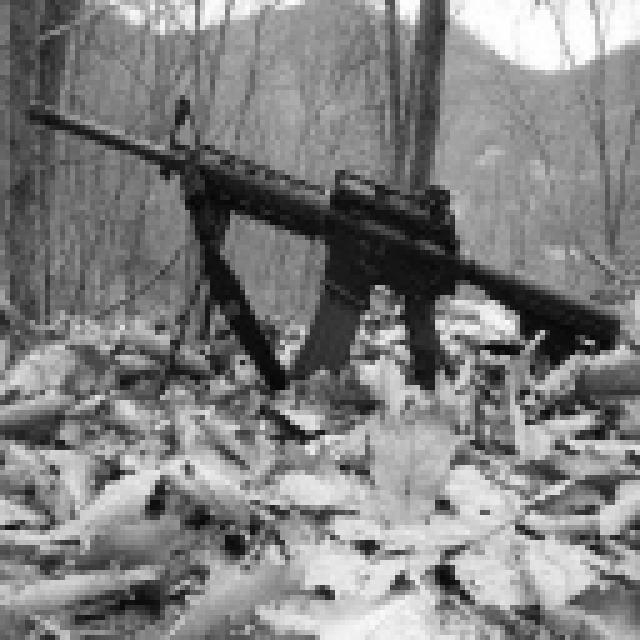Rifle: (0, 0, 635, 420)
